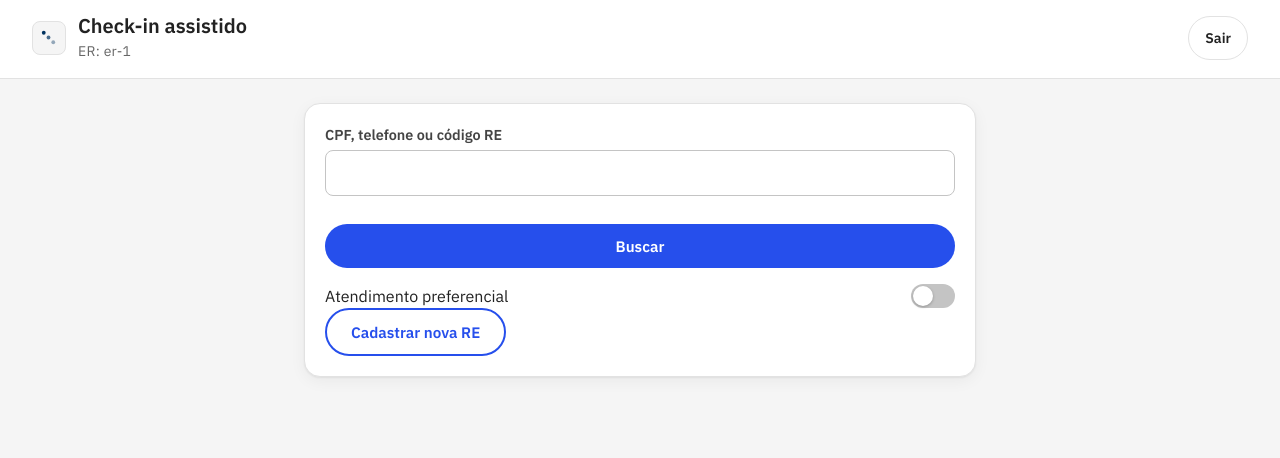
Test case: CheckinAttendantPage › surfaces an error when the search request fails
This screenshot has width=1280, height=458.
Type "ana" into the field labelled "CPF, telefone ou código RE" at (640, 173), box [325,150,955,196]
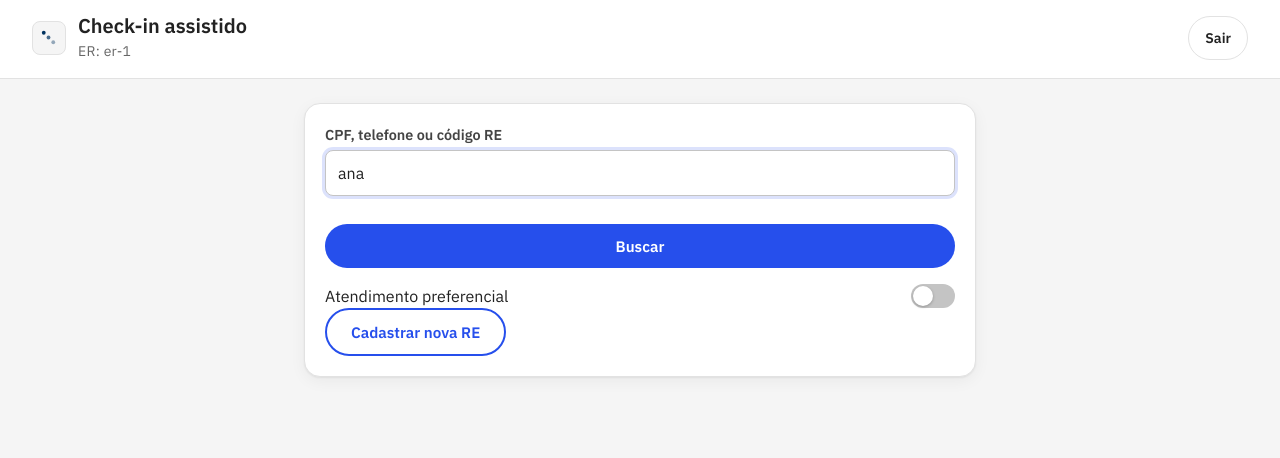
Click the button "Buscar" at (640, 246), box [325,224,955,268]
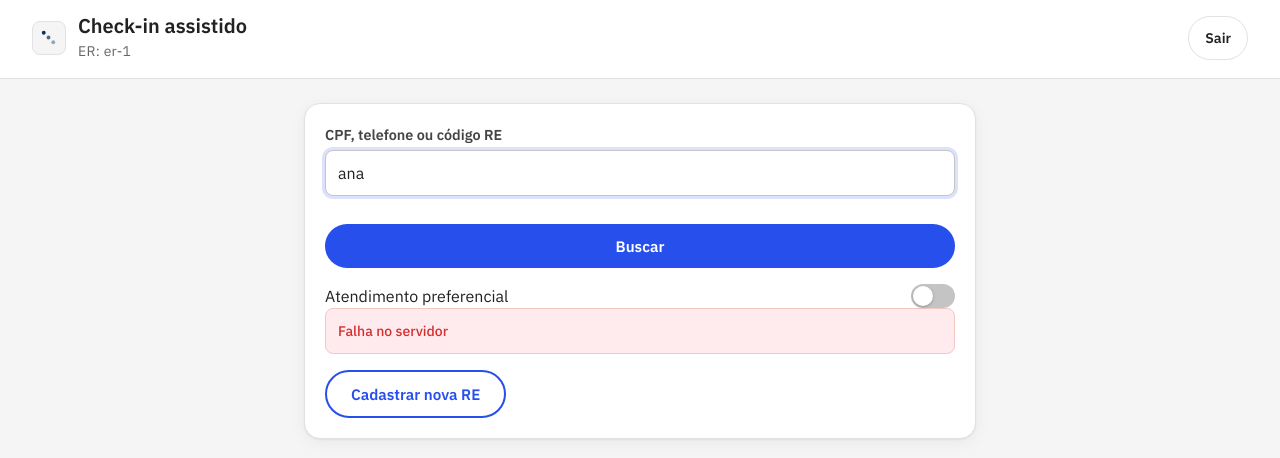
Check: the text "Falha no servidor" is shown, box [325,308,955,354]
